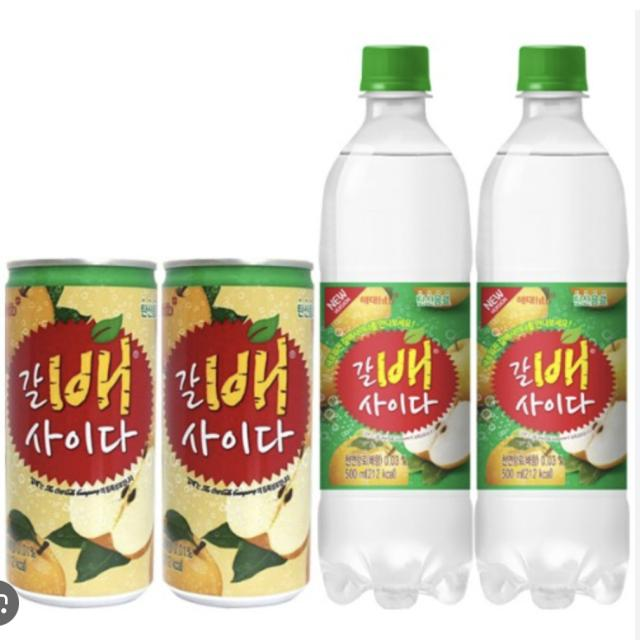recyclable: (464, 26, 640, 623), (310, 29, 478, 617), (156, 233, 314, 608), (4, 238, 159, 610)
